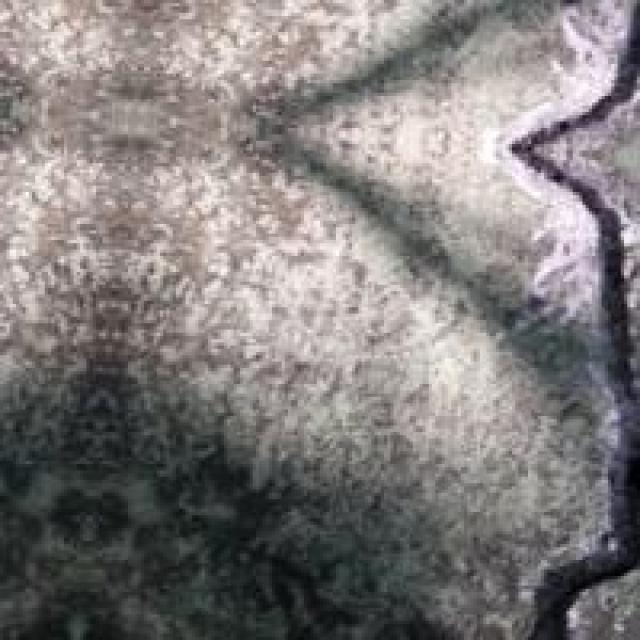Crack: (410, 0, 637, 637)
